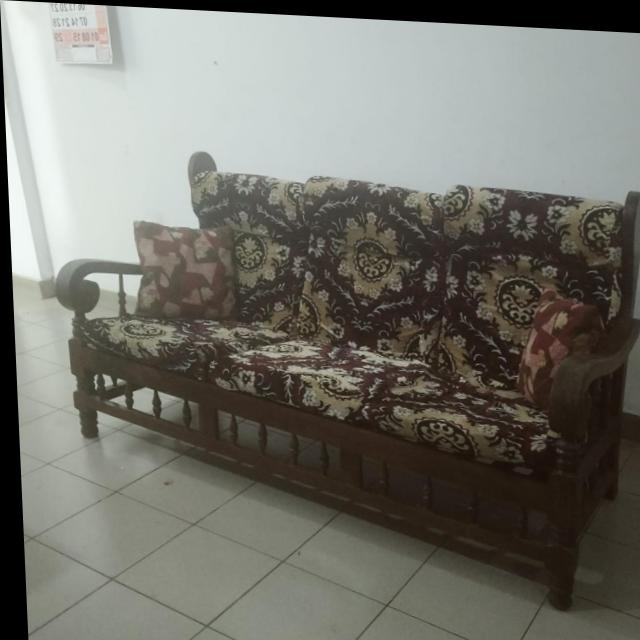Sofa: (46, 143, 640, 606)
